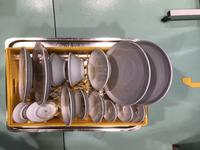Dish: (103, 41, 150, 105), (136, 41, 171, 106), (29, 41, 52, 105), (17, 47, 36, 102), (88, 49, 111, 91), (49, 52, 69, 87), (59, 88, 77, 126), (87, 91, 107, 123), (67, 51, 83, 87), (73, 89, 88, 120), (116, 103, 133, 122), (104, 100, 118, 123), (130, 104, 144, 123)
Inclined_dish: (26, 101, 58, 122), (11, 101, 29, 123)
